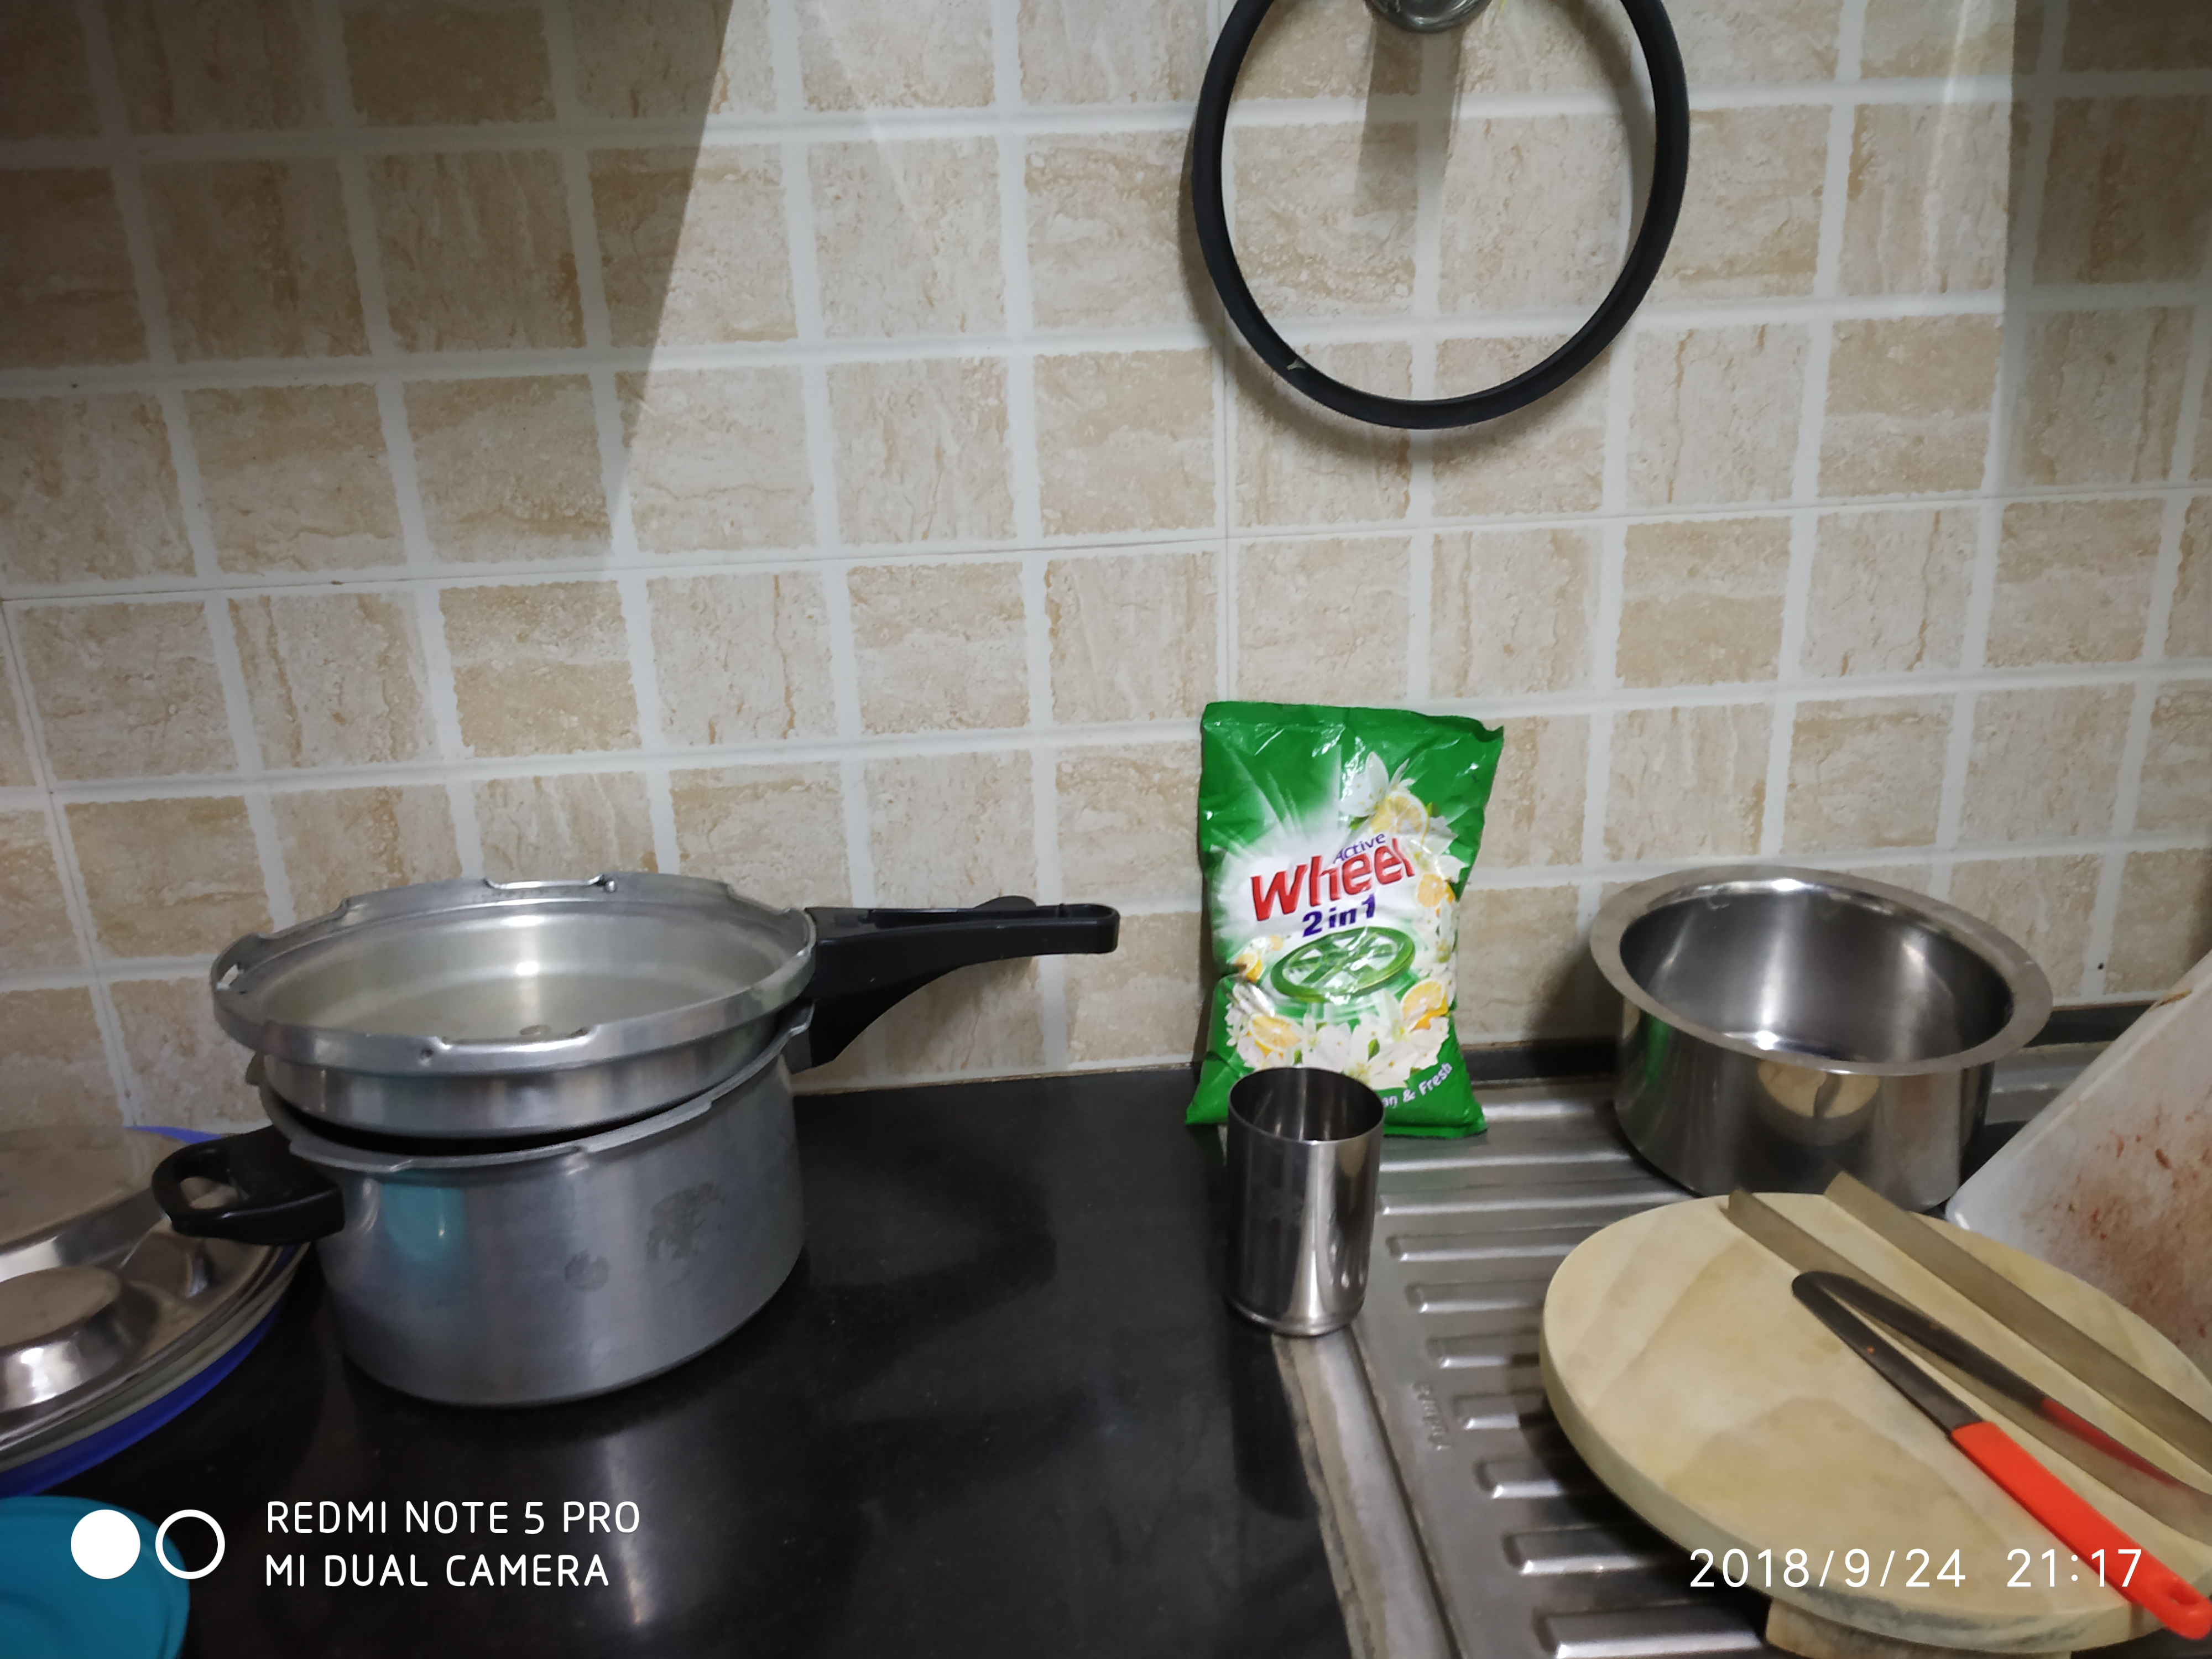detergent: (1192, 702, 1491, 1071)
